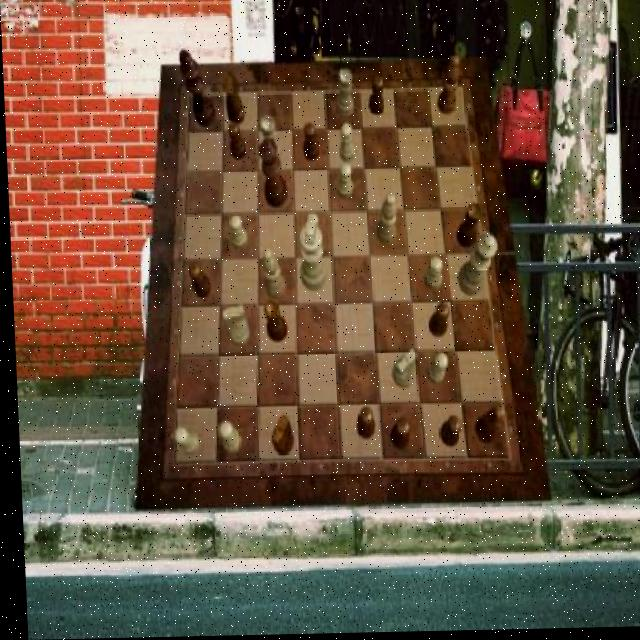bishop: (434, 58, 460, 117), (470, 408, 502, 447)
black-bishop: (177, 50, 214, 128)
black-king: (223, 76, 245, 125), (266, 417, 290, 457)
black-knight: (186, 263, 209, 299), (424, 305, 447, 340), (434, 417, 458, 448), (226, 124, 244, 162), (301, 124, 318, 163), (384, 421, 405, 452), (352, 408, 371, 442), (366, 80, 383, 118)
black-pawn: (256, 138, 286, 210)
black-queen: (453, 204, 481, 250), (260, 301, 285, 343)
black-rook: (260, 249, 284, 300), (373, 195, 395, 246)
white-bishop: (296, 221, 324, 294)
white-king: (219, 307, 248, 349), (386, 350, 414, 390)
white-knight: (214, 421, 238, 455), (421, 354, 445, 387), (170, 428, 196, 456), (421, 258, 441, 293), (227, 216, 246, 252), (300, 215, 318, 251), (334, 165, 352, 201), (336, 125, 353, 163)
white-pawn: (454, 234, 497, 297)
white-queen: (259, 118, 281, 165), (334, 71, 354, 119)
